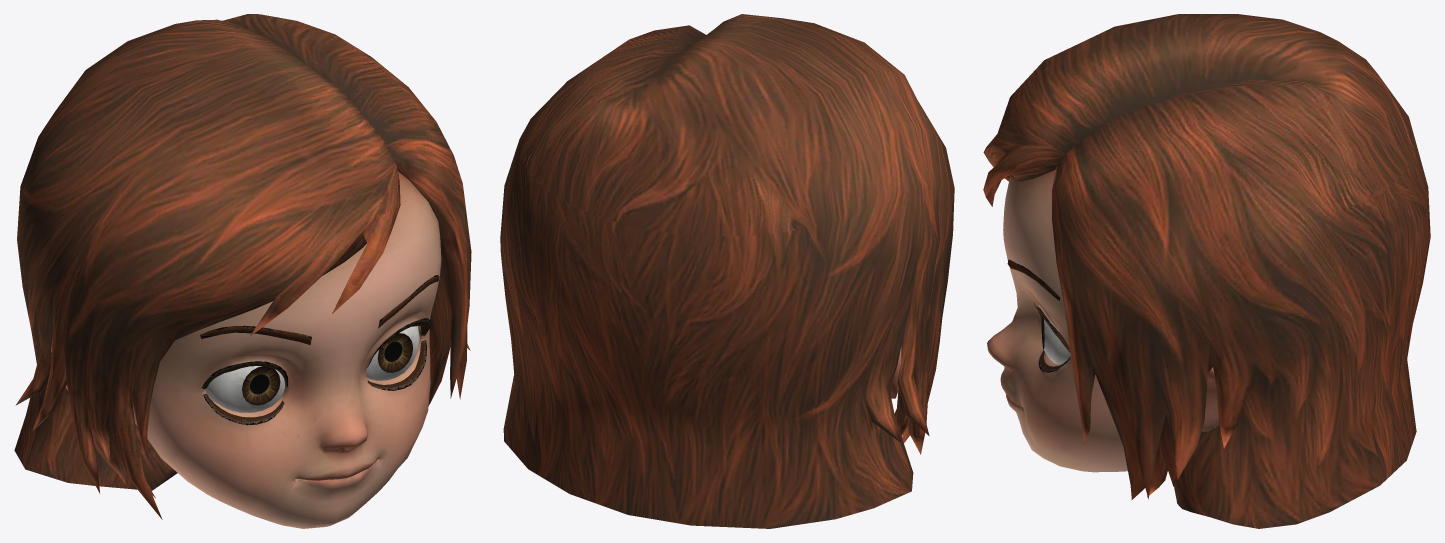
File: bobbledome-transformed.glb
3 views of the same model, side by side, from view 1: azimuth 30°, elevation 25°; view 2: azimuth 150°, elevation 25°; view 3: azimuth 270°, elevation 25° (orthographic).
Parts seen in each view (by area): view 1: head.004; view 2: head.004; view 3: head.004.
Boxes of the visible parts, bbox=[...] form: head.004: bbox=[14, 14, 471, 528]; head.004: bbox=[500, 14, 954, 528]; head.004: bbox=[983, 14, 1430, 528].
Bounding box in the file's own units: 0.8345 × 0.8209 × 0.7832.
Materials: 4 (4 with a texture image).
